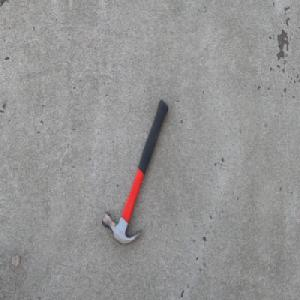Hammer: (101, 97, 169, 246)
